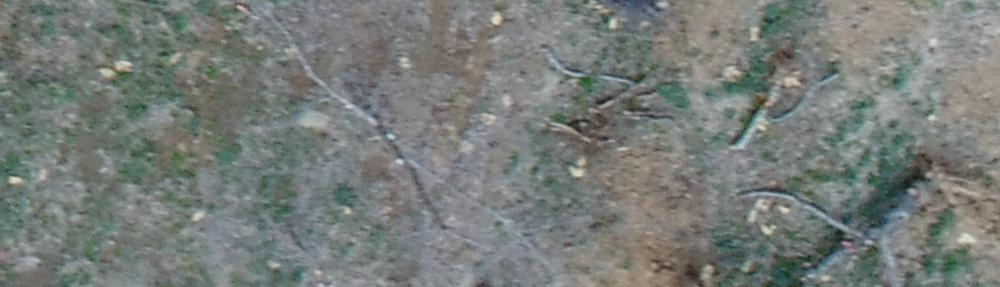apple: (285, 53, 485, 250)
